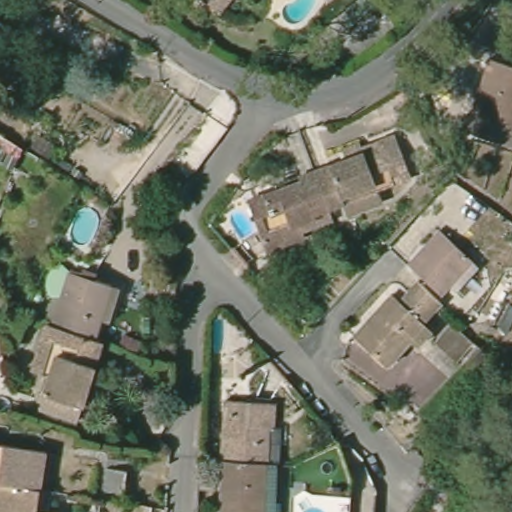pool: (61, 207, 102, 246), (223, 207, 261, 243), (275, 1, 321, 26)
